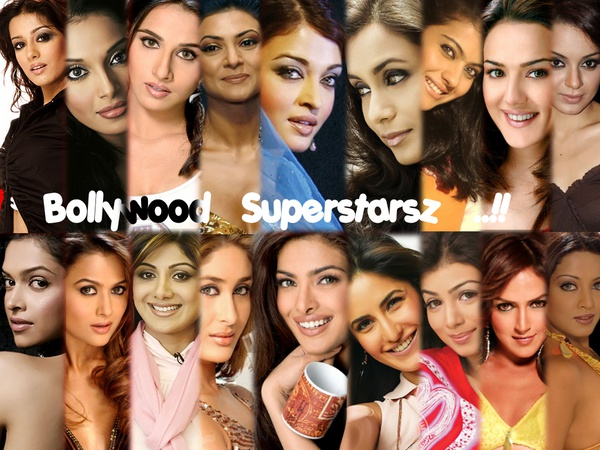bad: (462, 44, 569, 152), (344, 285, 434, 375), (265, 255, 354, 345), (265, 46, 354, 136), (116, 26, 205, 116), (335, 46, 424, 136), (0, 255, 66, 345), (129, 254, 204, 329), (419, 279, 494, 354), (63, 262, 137, 337), (486, 287, 560, 362), (187, 271, 262, 345), (196, 22, 270, 96), (543, 46, 600, 108), (550, 267, 600, 329), (8, 26, 60, 78), (513, 178, 549, 214)
